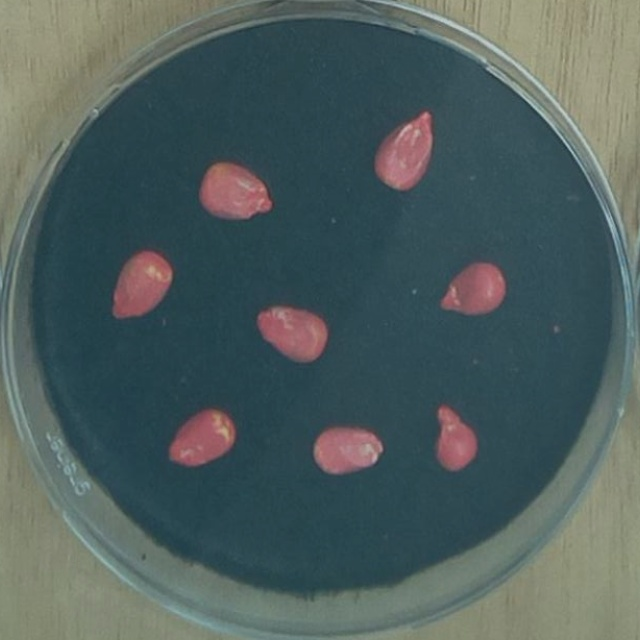Zea mays: (366, 103, 440, 197), (189, 152, 280, 227), (246, 296, 335, 372), (104, 242, 180, 328), (159, 400, 243, 476), (430, 254, 511, 325), (305, 418, 388, 482), (427, 398, 483, 480)
